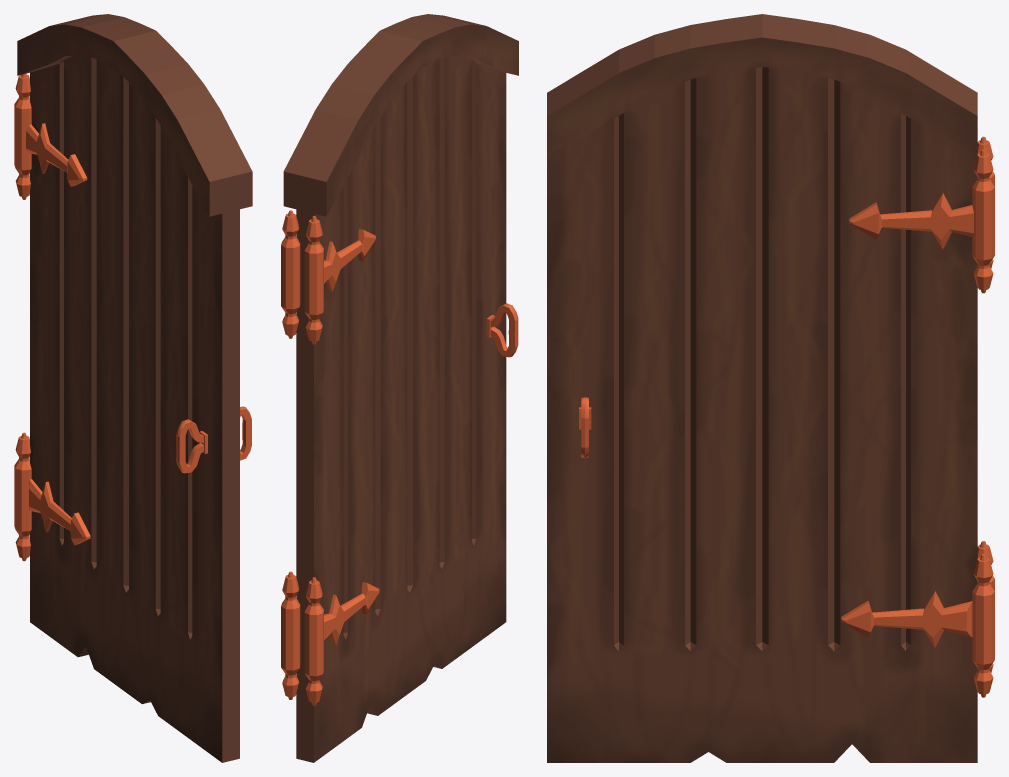
File: Door.fbx
3 renders of one model, left to right at view 1: azimuth 30°, elevation 25°; view 2: azimuth 150°, elevation 25°; view 3: azimuth 270°, elevation 25°, orthographic. The views are drawn at different scales.
Visible parts, largest first — view 1: Door, HingeTop.001, HingeTop, DoorHandle, HingebarBot, HingebarTop; view 2: Door, HingeTop, HingeTop.001, HingeTop.003, HingeTop.002, HingebarBot, HingebarTop, DoorHandle; view 3: Door, HingebarBot.001, HingebarTop.001, HingeTop.003, HingeTop.002.
Part boxes in pixels (x1,y1,x2,y2): Door: (17, 14, 252, 762); HingeTop.001: (14, 432, 31, 561); HingeTop: (14, 74, 31, 199); DoorHandle: (176, 406, 251, 473); HingebarBot: (29, 479, 90, 545); HingebarTop: (26, 123, 87, 186); Door: (283, 14, 518, 762); HingeTop: (304, 216, 323, 344); HingeTop.001: (304, 577, 323, 705); HingeTop.003: (281, 571, 300, 699); HingeTop.002: (281, 210, 300, 338); HingebarBot: (324, 582, 379, 645); HingebarTop: (324, 228, 375, 291); DoorHandle: (486, 303, 518, 357); Door: (547, 14, 977, 762); HingebarBot.001: (841, 590, 972, 647); HingebarTop.001: (849, 192, 973, 249); HingeTop.003: (972, 554, 994, 697); HingeTop.002: (972, 149, 994, 293).
Size of the model in its own units: 1186 by 2141 by 252.
